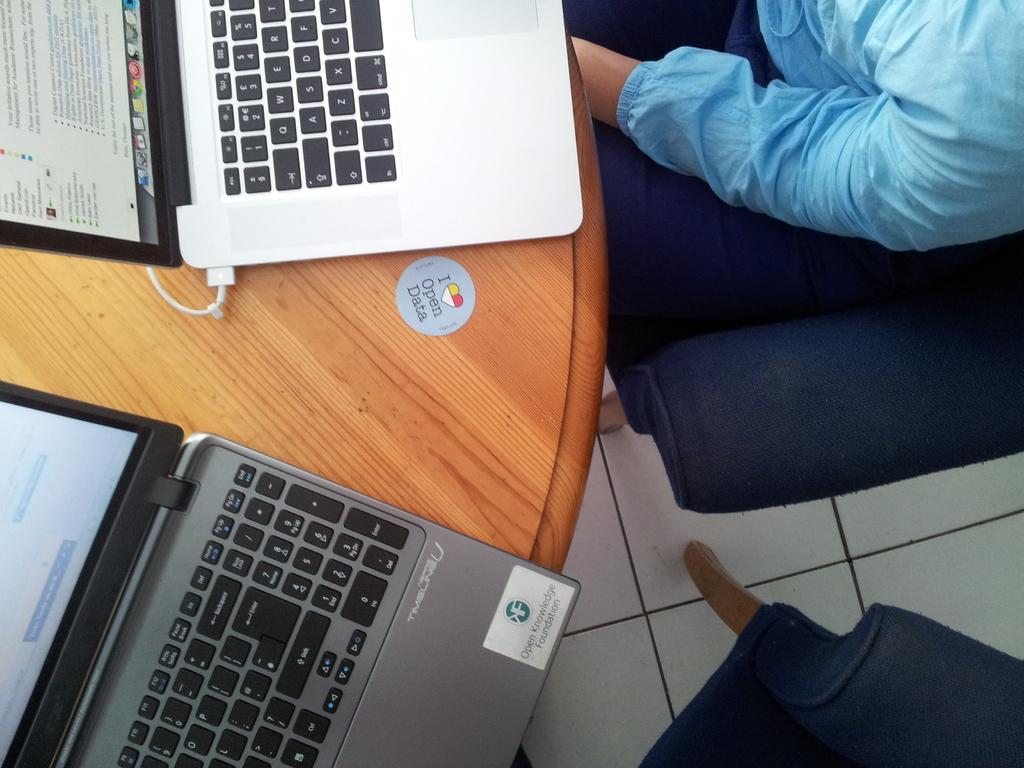Computer-keyboard: (109, 463, 411, 767), (202, 0, 396, 196)
Laptop: (19, 257, 552, 768), (0, 0, 586, 273)
